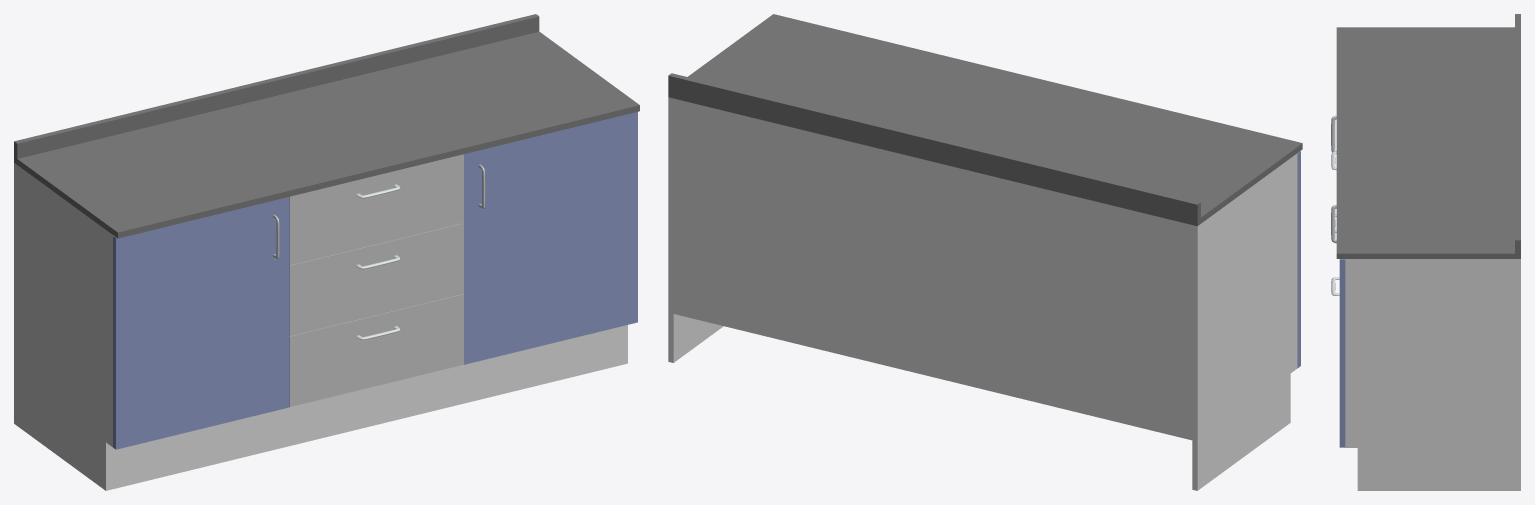
3 renders of one model, left to right at view 1: azimuth 30°, elevation 25°; view 2: azimuth 150°, elevation 25°; view 3: azimuth 270°, elevation 25°, orthographic. The views are drawn at different scales.
Visible parts, largest first — view 1: Cabinet1_Door, Cabinet3_Door, Countertop1, Countertop2, Countertop3, Cabinet1, Drawer, Drawer.001, Drawer.002, Baseboard1, Baseboard2, Baseboard3; view 2: Cabinet1, Cabinet2, Cabinet3, Countertop1, Countertop2, Countertop3, Baseboard1, Baseboard3, Cabinet1_Door; view 3: Cabinet3, Countertop3, Countertop1, Countertop2, Baseboard3, Cabinet3_Door.
Boxes of the visible parts, x1,y1,x2,y2 form: Cabinet1_Door: [113, 197, 289, 449]; Cabinet3_Door: [464, 112, 637, 364]; Countertop1: [14, 99, 291, 238]; Countertop2: [188, 56, 465, 195]; Countertop3: [362, 14, 639, 153]; Cabinet1: [14, 163, 113, 447]; Drawer: [289, 294, 463, 406]; Drawer.001: [289, 223, 463, 336]; Drawer.002: [289, 154, 463, 265]; Baseboard1: [14, 375, 279, 490]; Baseboard2: [280, 367, 453, 448]; Baseboard3: [454, 325, 627, 405]; Cabinet1: [1021, 153, 1297, 441]; Cabinet2: [844, 140, 1020, 398]; Cabinet3: [668, 97, 844, 355]; Countertop1: [1021, 100, 1302, 226]; Countertop2: [844, 57, 1125, 182]; Countertop3: [668, 14, 949, 139]; Baseboard1: [1192, 374, 1290, 490]; Baseboard3: [668, 312, 723, 362]; Cabinet1_Door: [1297, 151, 1300, 367]; Cabinet3: [1345, 259, 1520, 447]; Countertop3: [1336, 165, 1520, 258]; Countertop1: [1336, 14, 1520, 102]; Countertop2: [1336, 89, 1520, 178]; Baseboard3: [1357, 448, 1520, 490]; Cabinet3_Door: [1339, 259, 1345, 447].
Bounding box in the file's own units: 180 × 93 × 63.86.
